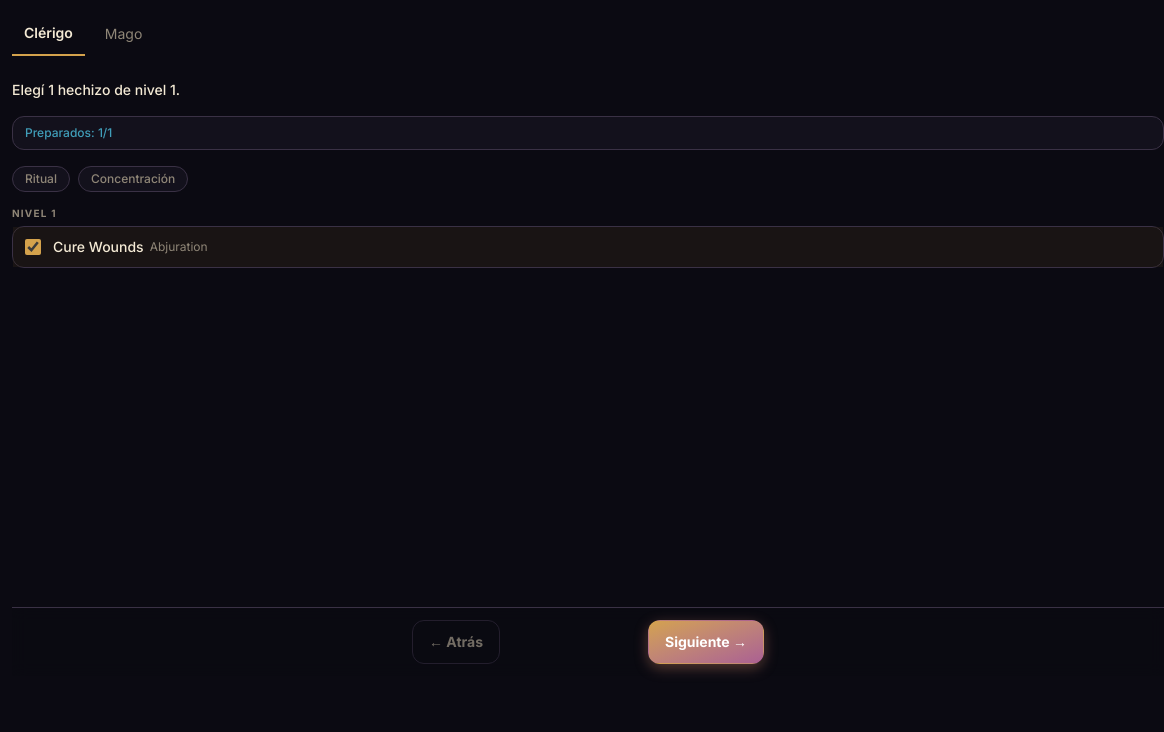
it: MulticlassSpellsView — 2nd class save fail (REQ-SP07-MULTICLASS-2ND-CLASS-SAVE-FAIL) › SP-07 6.9: Cleric save OK, Wizard save 400 → active tab switches to Wizard + error banner
Expected: the text "Cure Wounds" is shown, 53,237 -> 144,257
Click the button "Siguiente →". click: (706, 642)
box: 648,620 -> 764,664
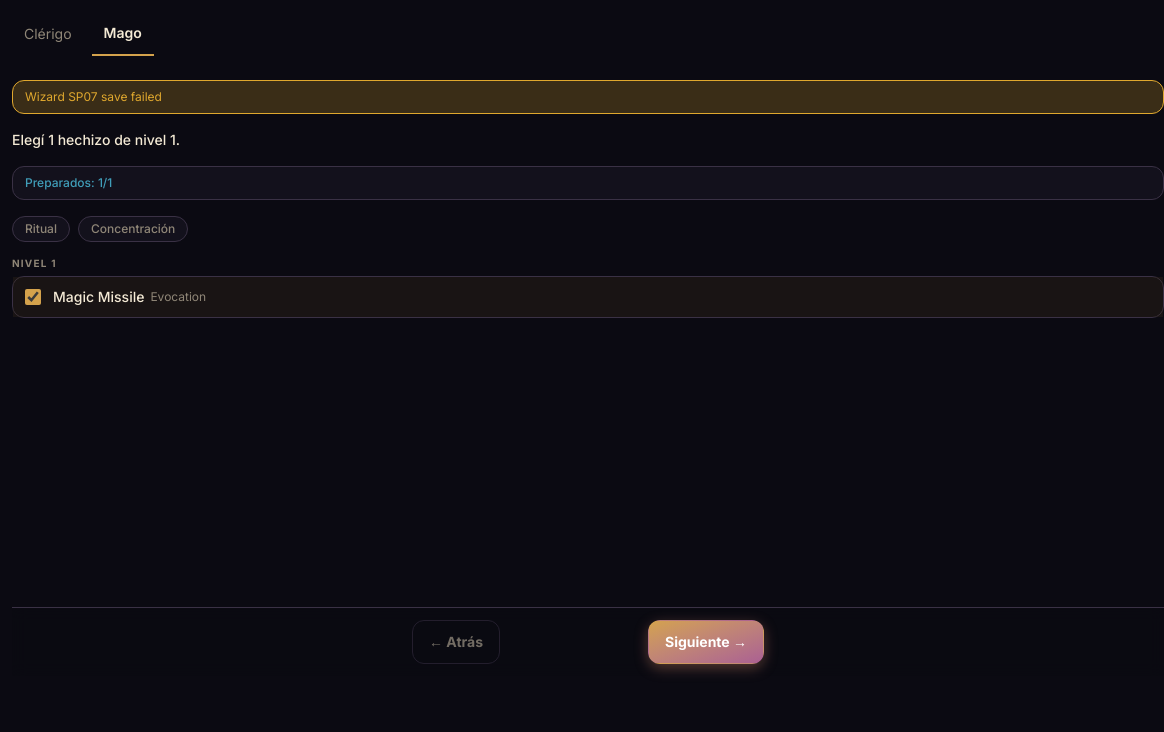
Now the text "Wizard SP07 save failed" is shown, box 12,80 -> 1163,114
